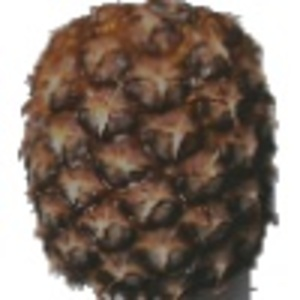abacaxi: (19, 3, 283, 292)
